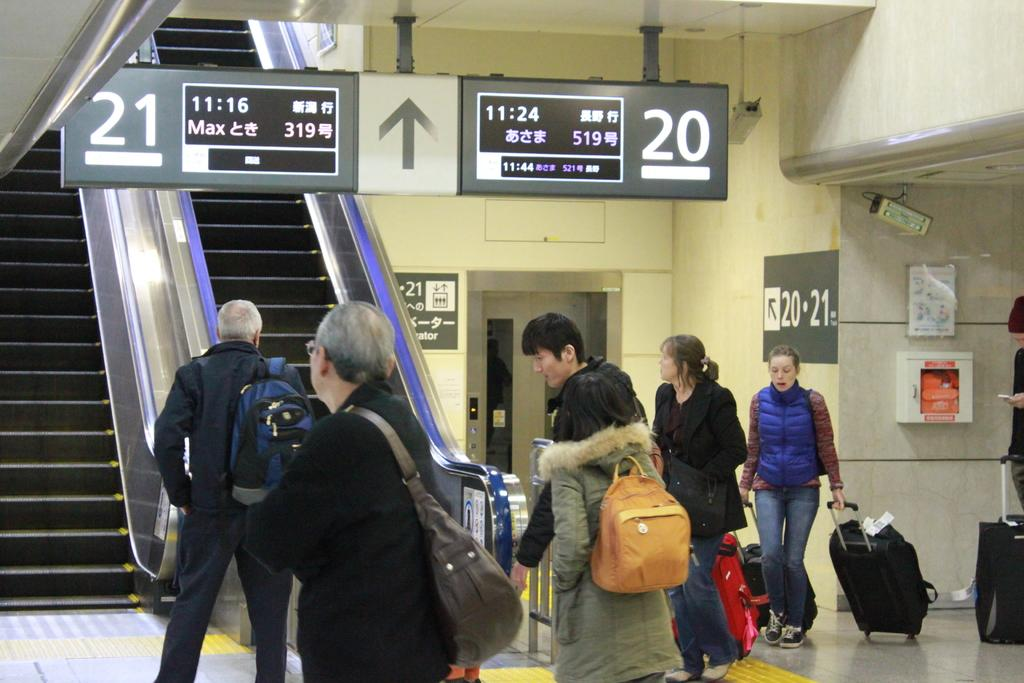Luggage-and-bags: (344, 407, 525, 667), (828, 497, 938, 637), (588, 448, 685, 595), (228, 358, 319, 507), (669, 533, 760, 661), (739, 503, 819, 627), (977, 456, 1023, 645)
